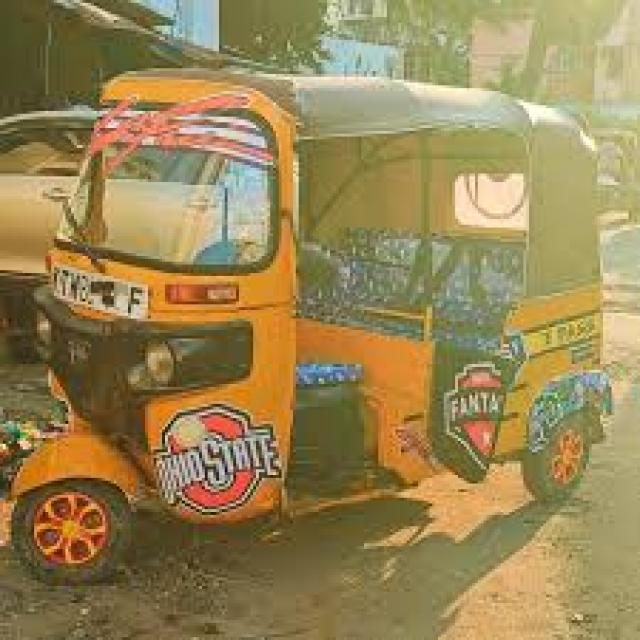tuktuk: (3, 25, 629, 597)
